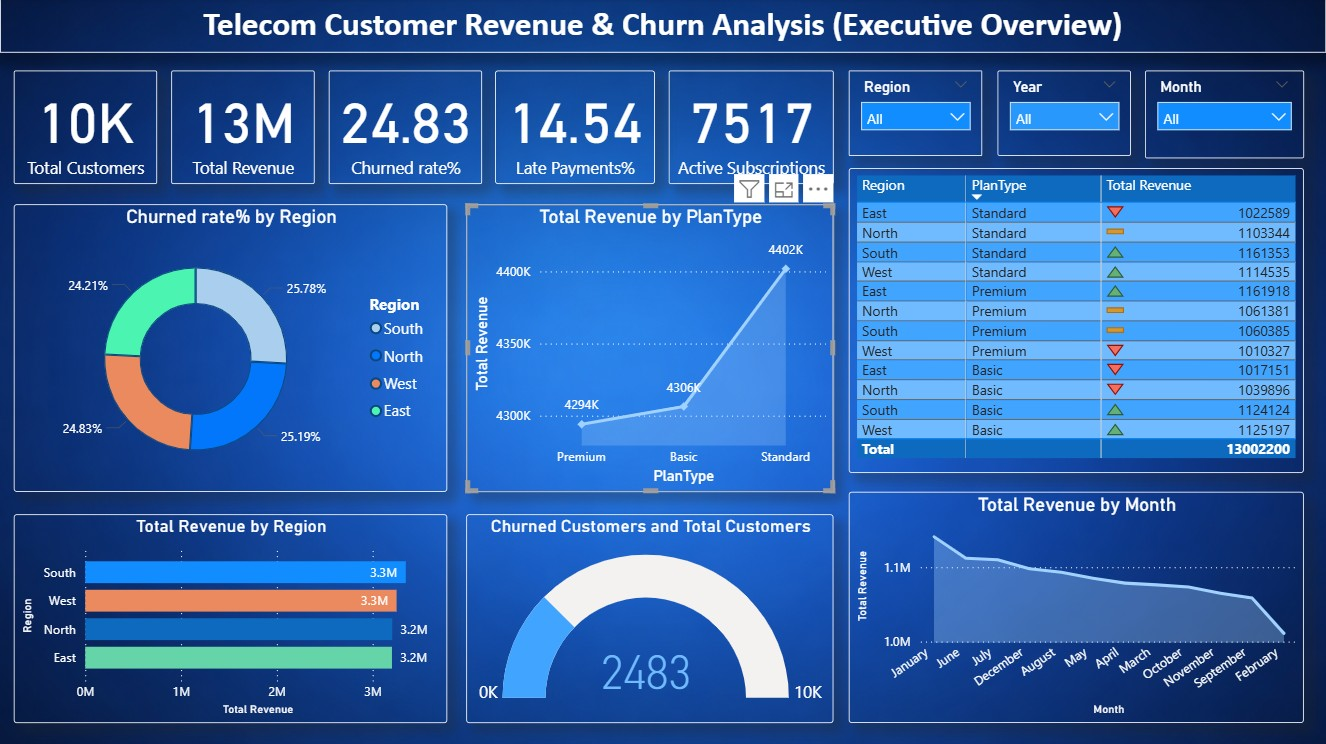

What the dashboard file says about the page in this screenshot:
{"tool":"powerbi","page":{"name":"Executive","canvas":[1280,720],"ordinal":0},"visuals":[{"type":"textbox","box":[0,0,1280,53.1],"z":0},{"type":"card","fields":{"Values":["customers.Total Customers"]},"box":[13.3,70,138.7,109.8],"z":1000},{"type":"card","fields":{"Values":["payments.Total Revenue"]},"box":[165.3,70,138.7,109.8],"z":2000},{"type":"card","fields":{"Values":["subscriptions.Active Subscriptions"]},"box":[645.4,70,159.3,109.8],"z":3000},{"type":"card","fields":{"Values":["subscriptions.Churned rate%"]},"box":[317.3,70,148.4,109.8],"z":4000},{"type":"donutChart","fields":{"Y":["subscriptions.Churned rate%"],"Category":["customers.Region"]},"box":[13.3,199.1,418.6,277.5],"z":5000},{"type":"areaChart","fields":{"Category":["plans.PlanType"],"Y":["payments.Total Revenue"]},"box":[450,199.1,354.7,277.5],"z":6000},{"type":"clusteredBarChart","fields":{"Category":["customers.Region"],"Y":["payments.Total Revenue"]},"box":[13.3,498.3,418.6,201.5],"z":7000},{"type":"slicer","fields":{"Values":["Subscriptions DTable.Month"]},"box":[1105.1,70,153.2,84.5],"z":8000},{"type":"slicer","fields":{"Values":["Subscriptions DTable.Year"]},"box":[962.7,70,129.1,82],"z":9000},{"type":"slicer","fields":{"Values":["customers.Region"]},"box":[819.2,70,129.1,82],"z":10000},{"type":"tableEx","fields":{"Values":["customers.Region","plans.PlanType","payments.Total Revenue"]},"box":[819.2,164.1,439.1,294.4],"z":11000},{"type":"gauge","fields":{"MaxValue":["customers.Total Customers"],"Y":["subscriptions.Churned Customers"]},"box":[450,498.3,354.7,201.5],"z":12000},{"type":"card","fields":{"Values":["payments.Late Payments%"]},"box":[477.8,70,154.4,109.8],"z":13000},{"type":"lineChart","fields":{"Y":["payments.Total Revenue"],"Category":["DateTable.Month"]},"box":[819.2,476.5,439.1,223.2],"z":14000},{"type":"image","box":[127.1,0,59.4,58.2],"z":14001}]}

Visuals, with their boxes in screenshot pixels (x1, y1, x2, y2), scaled from the page's 1280x720 canvas onto the 1326x744 screenshot:
textbox: [0,0,1325,55]
card - customers.Total Customers: [14,72,157,186]
card - payments.Total Revenue: [171,72,315,186]
card - subscriptions.Active Subscriptions: [669,72,834,186]
card - subscriptions.Churned rate%: [329,72,482,186]
donutChart - subscriptions.Churned rate% x customers.Region: [14,206,447,492]
areaChart - plans.PlanType x payments.Total Revenue: [466,206,834,492]
clusteredBarChart - customers.Region x payments.Total Revenue: [14,515,447,723]
slicer - Subscriptions DTable.Month: [1145,72,1304,160]
slicer - Subscriptions DTable.Year: [997,72,1131,157]
slicer - customers.Region: [849,72,982,157]
tableEx - customers.Region x plans.PlanType: [849,170,1304,474]
gauge - customers.Total Customers x subscriptions.Churned Customers: [466,515,834,723]
card - payments.Late Payments%: [495,72,655,186]
lineChart - payments.Total Revenue x DateTable.Month: [849,492,1304,723]
image: [132,0,193,60]
